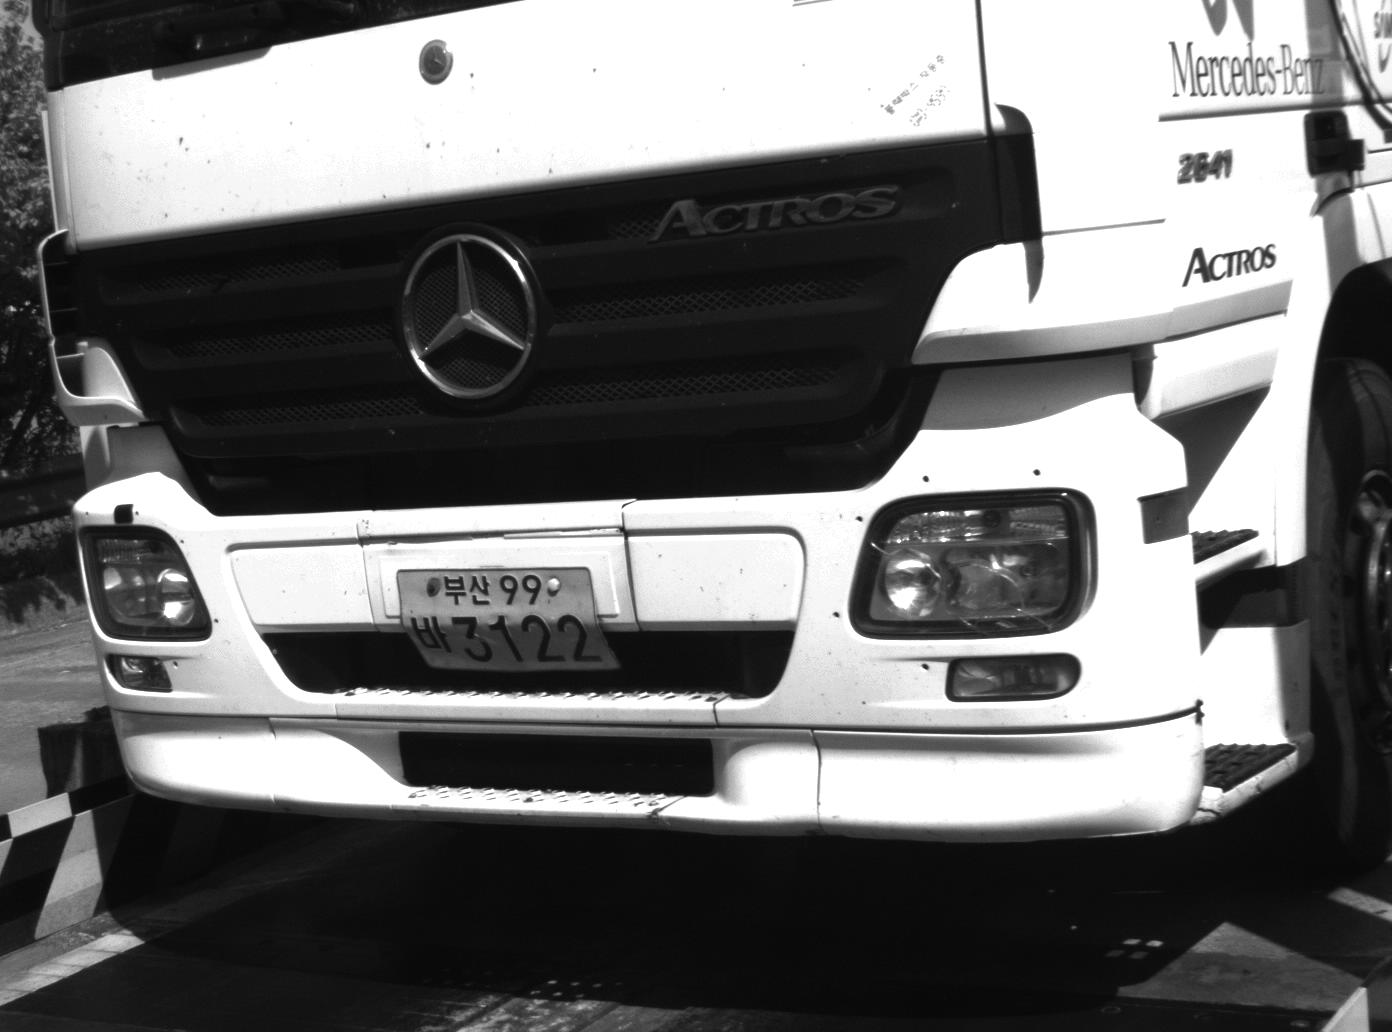car: (26, 1, 1392, 891)
plate: (394, 565, 626, 675)
